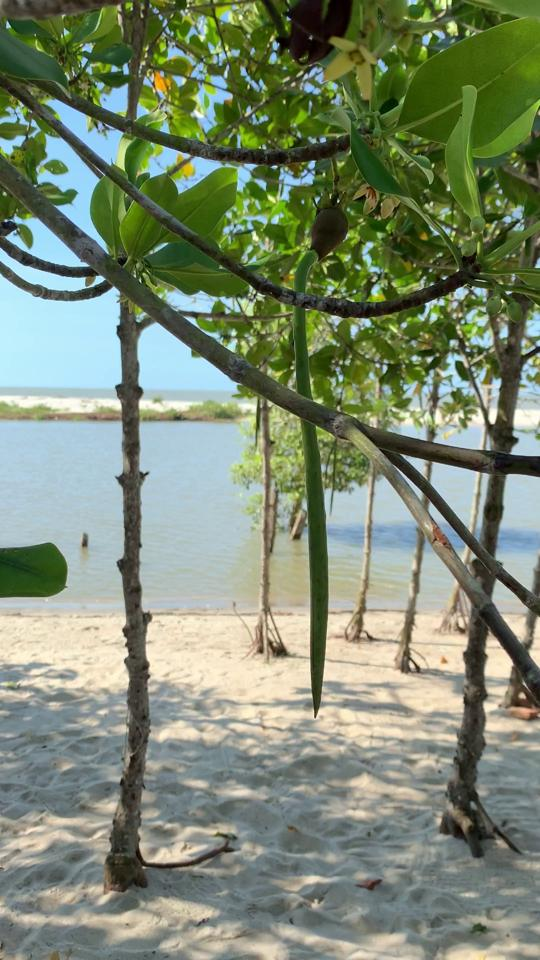setengah matang: (286, 196, 359, 725)
